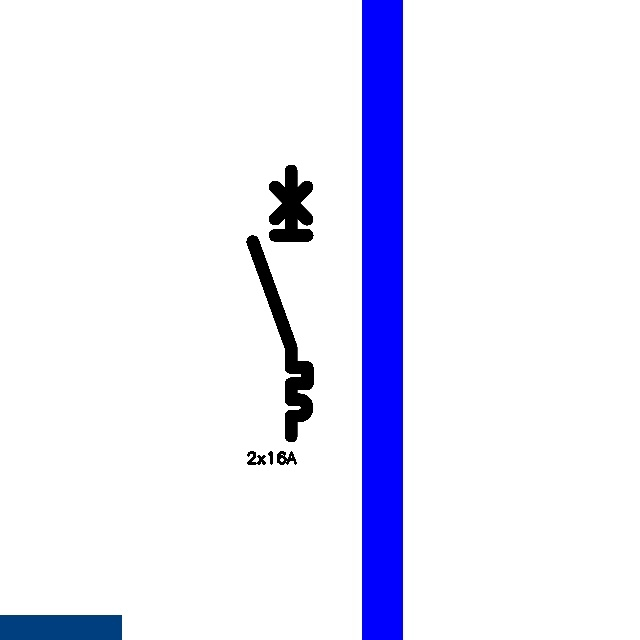interruptor_termomagnetico: (246, 164, 314, 443)
